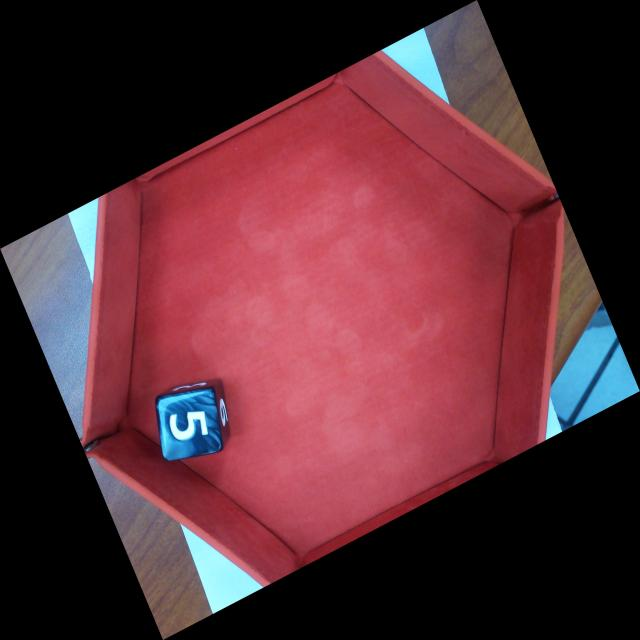dice: (162, 388, 224, 463)
